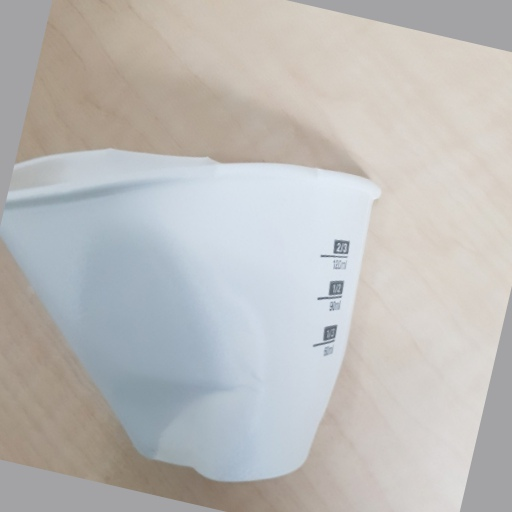Paper_1: (1, 151, 384, 485)
